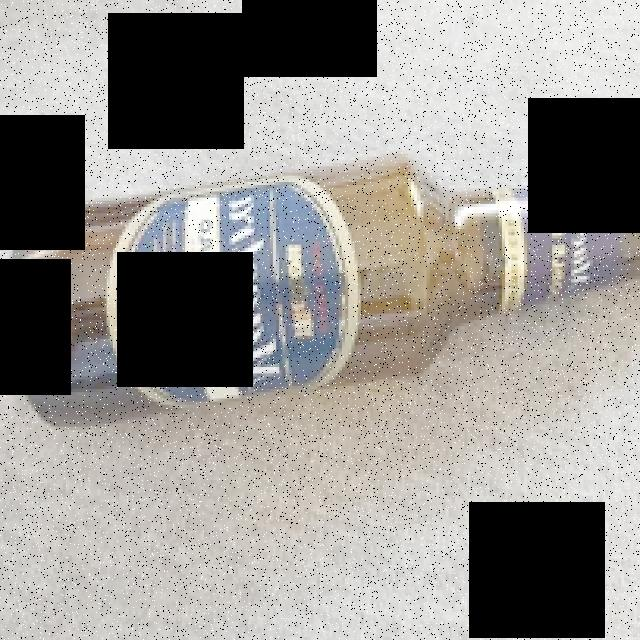glass-bottle: (1, 139, 640, 443)
